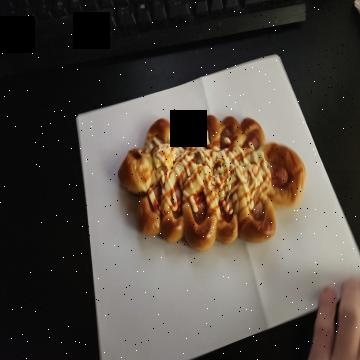pizza_bread: (120, 114, 305, 252)
